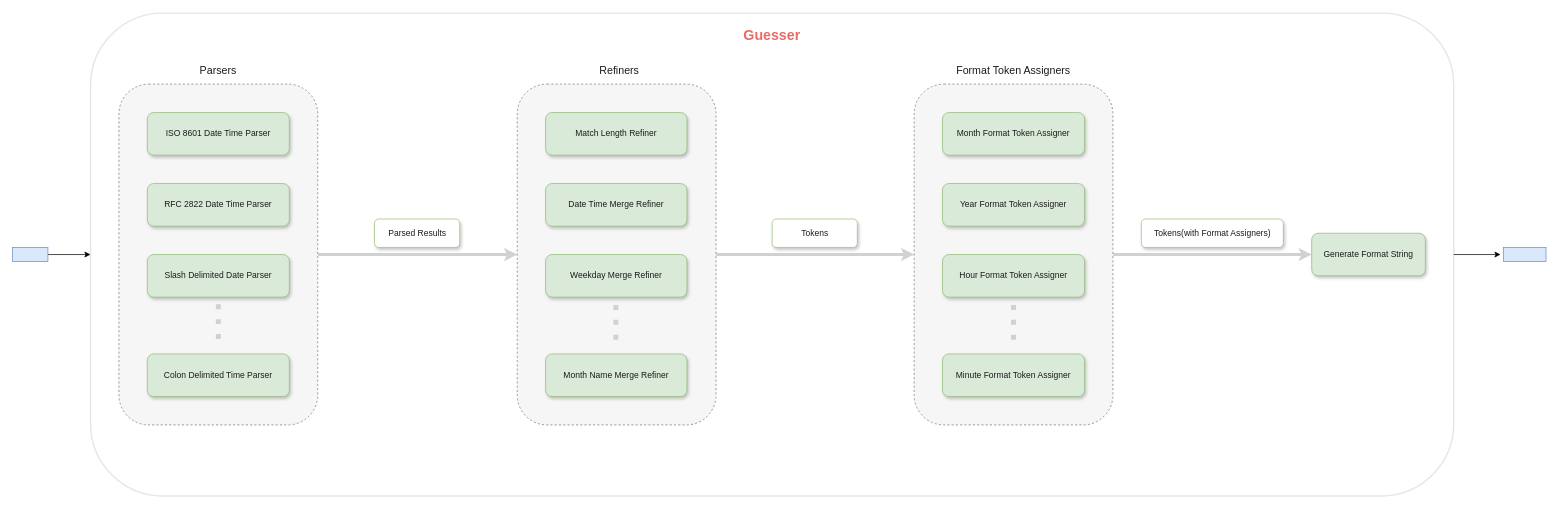
Some shapes in this 1558 by 508 pixel diagram are drawn without their labels. Here are the shapes that lost their labels. From the top down, the centre of each, then its label:
At point (30, 254): "Input".
At point (1524, 254): "Output".
